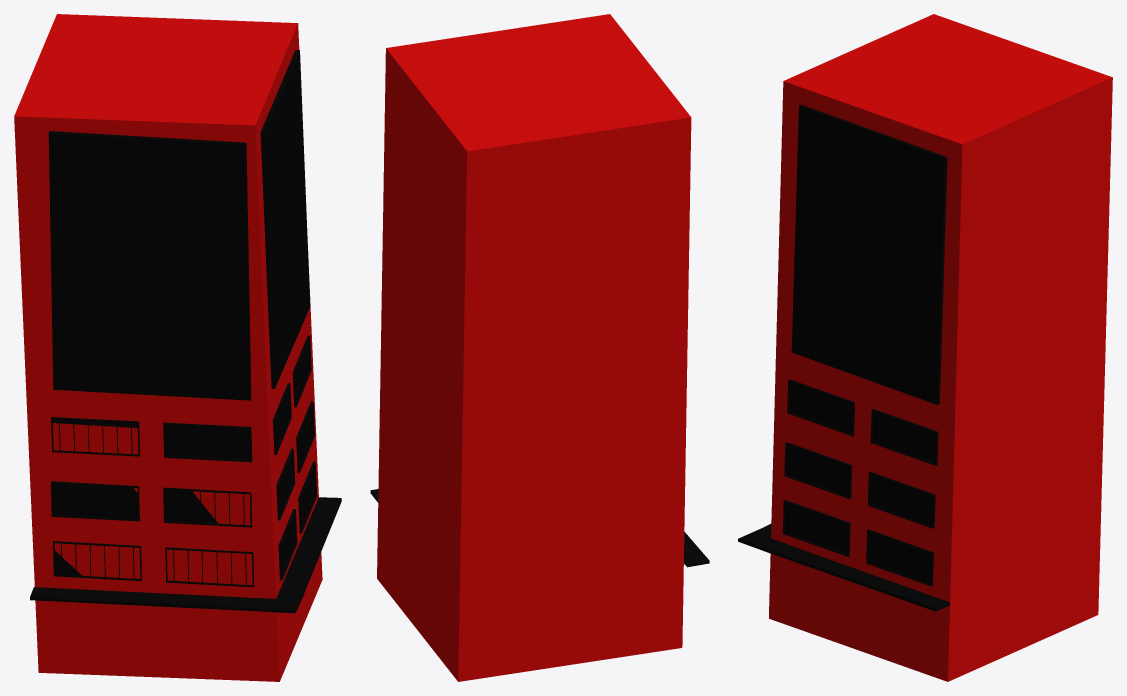
File: comercial average.fbx
The picture shows the model from 3 angles, left to right: view 1: azimuth 30°, elevation 25°; view 2: azimuth 150°, elevation 25°; view 3: azimuth 270°, elevation 25°; orthographic projection. The views are drawn at different scales.
Parts seen in each view (by area): view 1: polySurface71; view 2: polySurface71; view 3: polySurface71.
Boxes of the visible parts, x1,y1,x2,y2 form: polySurface71: (14, 14, 341, 681); polySurface71: (370, 14, 709, 681); polySurface71: (738, 14, 1112, 681).
Size of the model in its own units: 3110 by 5079 by 3204.
